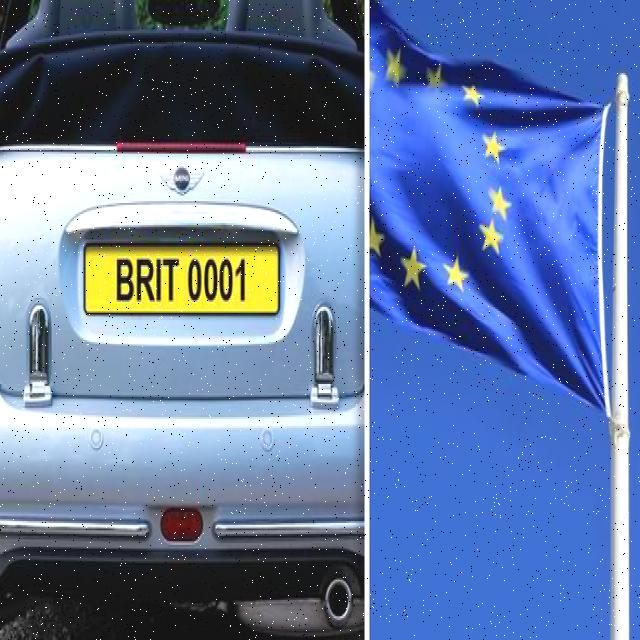Autre: (81, 240, 277, 309)
